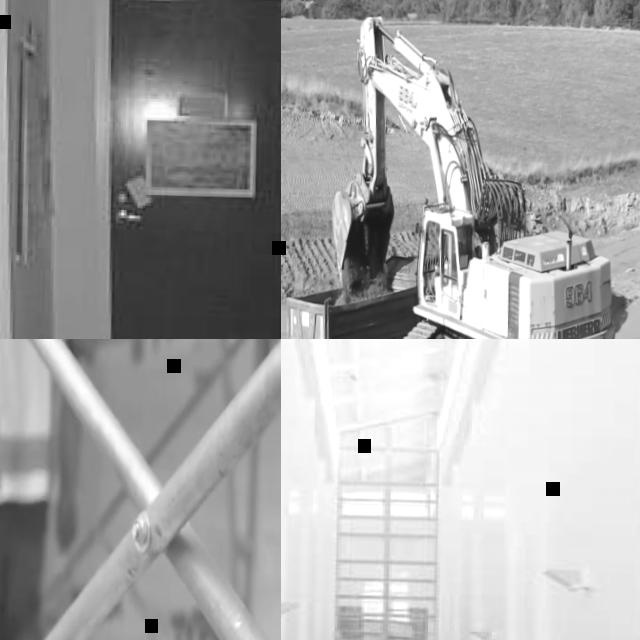Person: (0, 339, 88, 640), (425, 256, 449, 297)
Safety Vest: (0, 339, 77, 507)
machinery: (321, 11, 626, 339), (281, 251, 423, 339)
